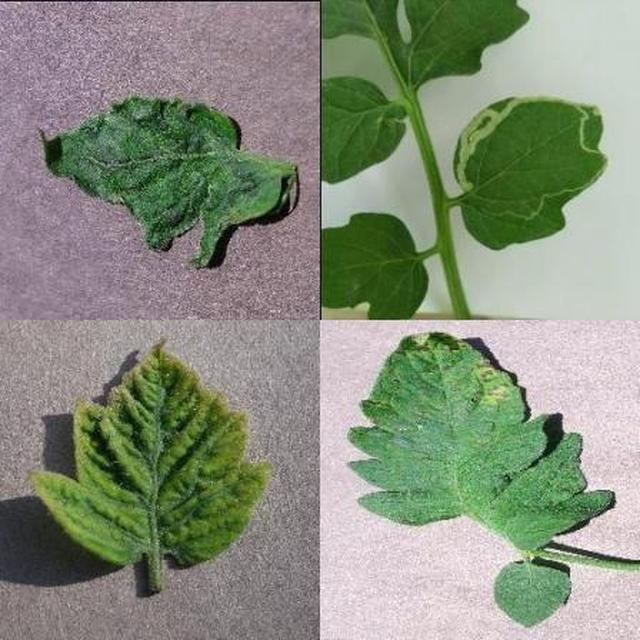Mosaic Virus Leaf: (110, 94, 640, 640)
